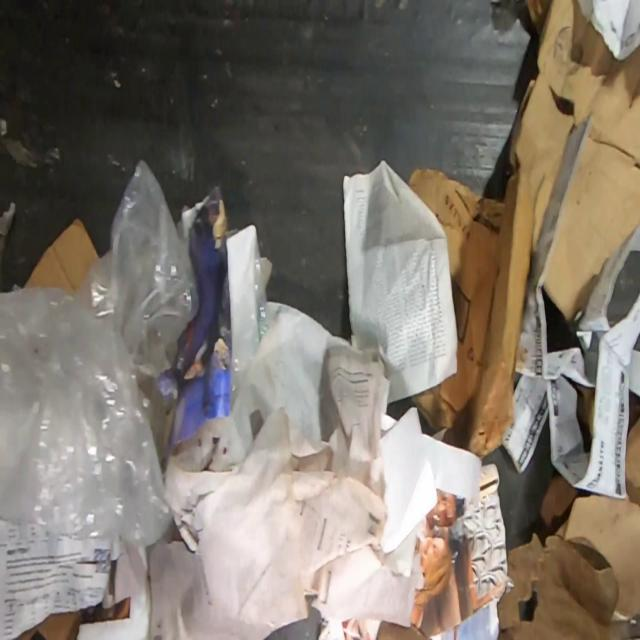cardboard: (408, 0, 640, 460), (554, 494, 640, 620), (21, 217, 99, 297), (540, 474, 579, 532), (17, 608, 82, 640)
soft_plastic: (0, 159, 200, 551), (229, 238, 276, 447)
